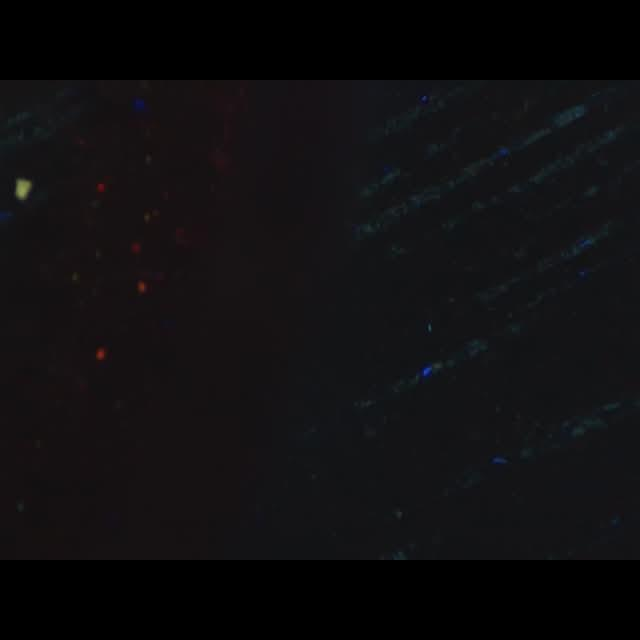microbeads: (14, 178, 32, 200)
